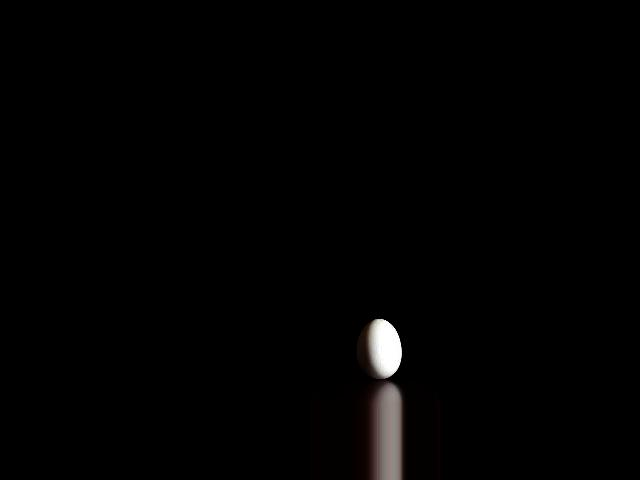egg: (357, 319, 402, 380)
